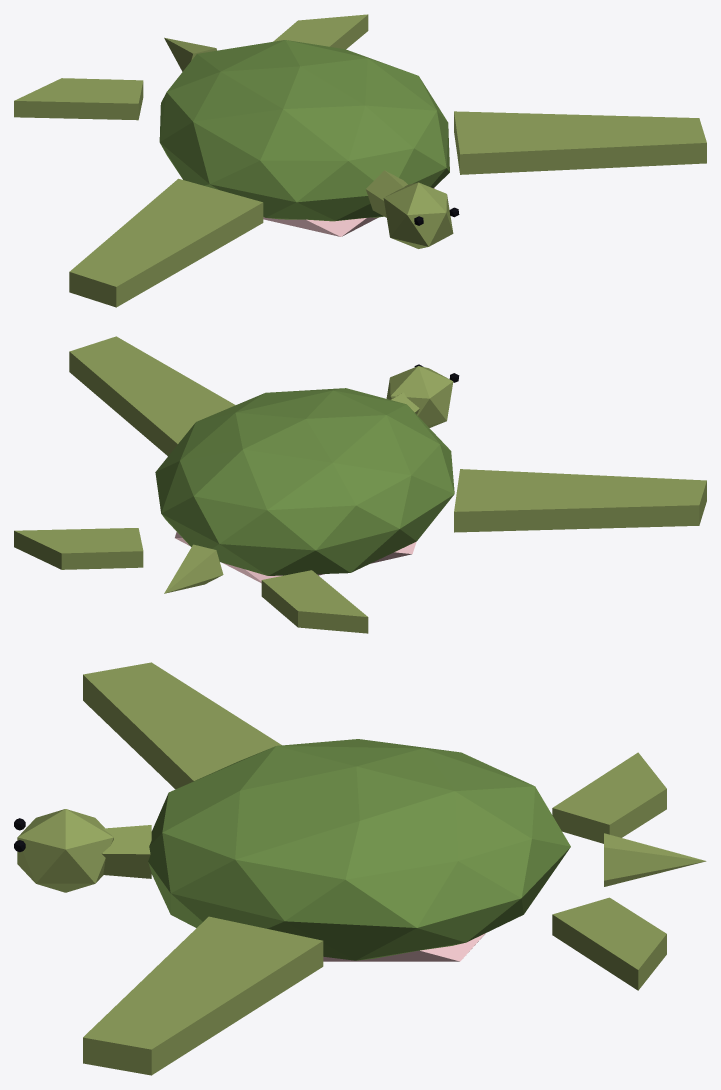
Rendered from sea_turtle.glb.
3 renders of one model, top to bottom at view 1: azimuth 30°, elevation 25°; view 2: azimuth 150°, elevation 25°; view 3: azimuth 270°, elevation 25°, orthographic. The views are drawn at different scales.
Visible parts, largest first — view 1: sea_turtle; view 2: sea_turtle; view 3: sea_turtle.
Boxes of the visible parts, x1,y1,x2,y2 form: sea_turtle: (14, 14, 706, 307); sea_turtle: (14, 336, 706, 633); sea_turtle: (14, 662, 706, 1075).
Bounding box in the file's own units: 1.6 × 0.3248 × 1.21.
